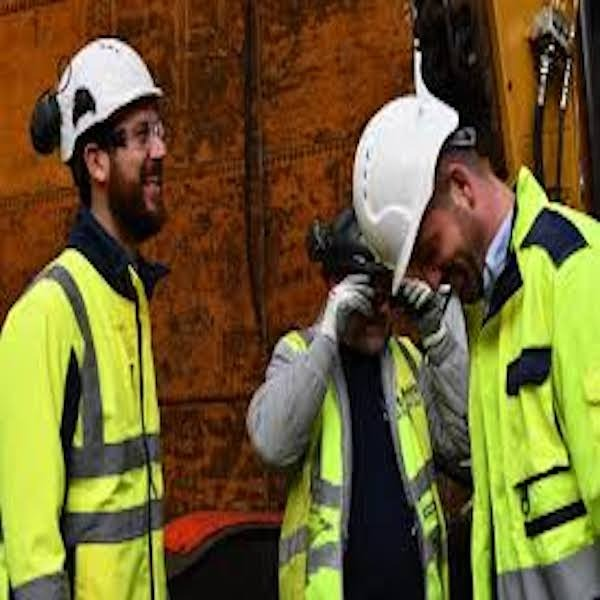helmet: (347, 91, 458, 263), (55, 35, 168, 151)
vest: (5, 233, 168, 600), (468, 205, 597, 590), (279, 332, 452, 593)
